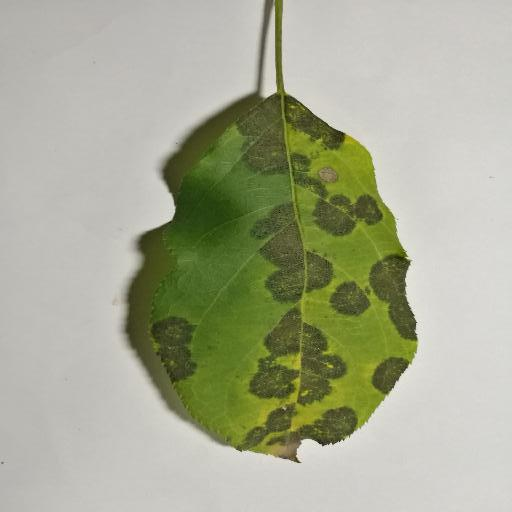Brown_Spot: (61, 84, 475, 470)
